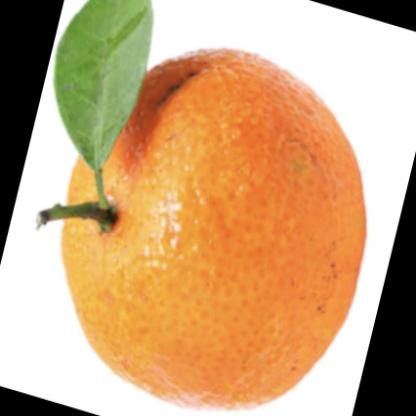fresh: (60, 47, 364, 411)
